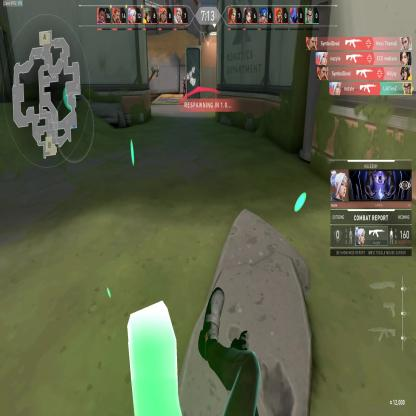enemy: (182, 75, 186, 96)
